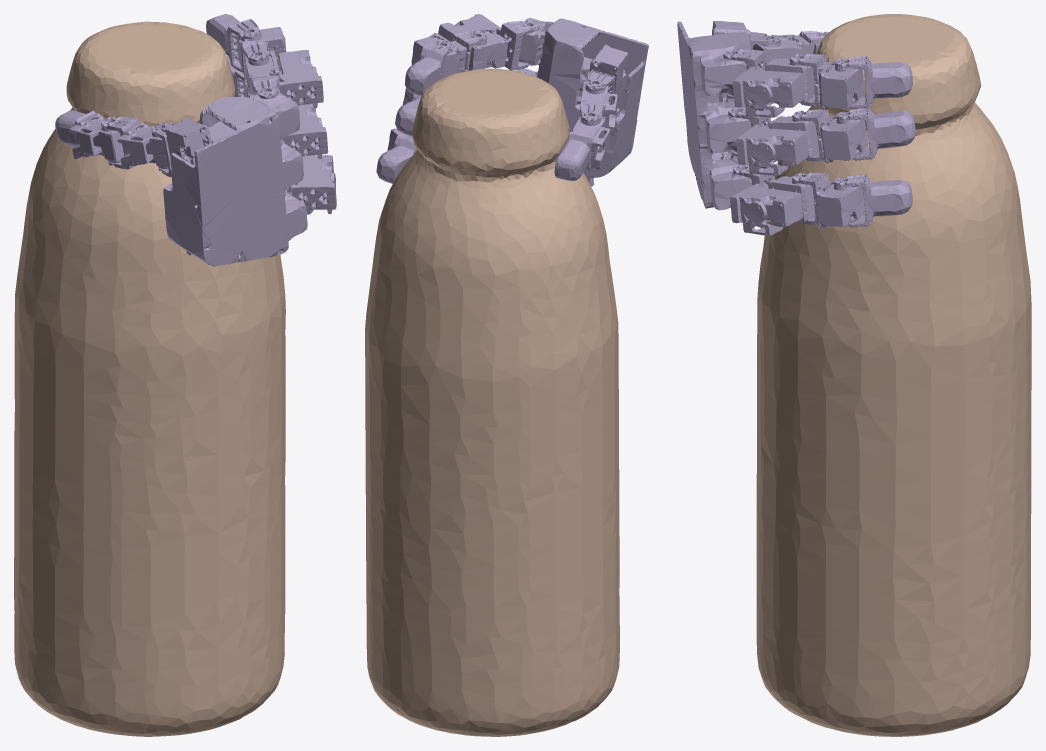
Rendered from case-04.glb.
3 renders of one model, left to right at view 1: azimuth 30°, elevation 25°; view 2: azimuth 150°, elevation 25°; view 3: azimuth 270°, elevation 25°, orthographic. The views are drawn at different scales.
Visible parts, largest first — view 1: simplified.obj, world; view 2: simplified.obj, world; view 3: simplified.obj, world.
Boxes of the visible parts, left/top/right/bottom form: simplified.obj: left=14, top=21, right=285, bottom=736; world: left=55, top=14, right=336, bottom=266; simplified.obj: left=365, top=68, right=619, bottom=736; world: left=376, top=14, right=648, bottom=186; simplified.obj: left=756, top=14, right=1031, bottom=736; world: left=677, top=21, right=915, bottom=235.
Bounding box in the file's own units: 0.2232 × 0.5526 × 0.2644.
